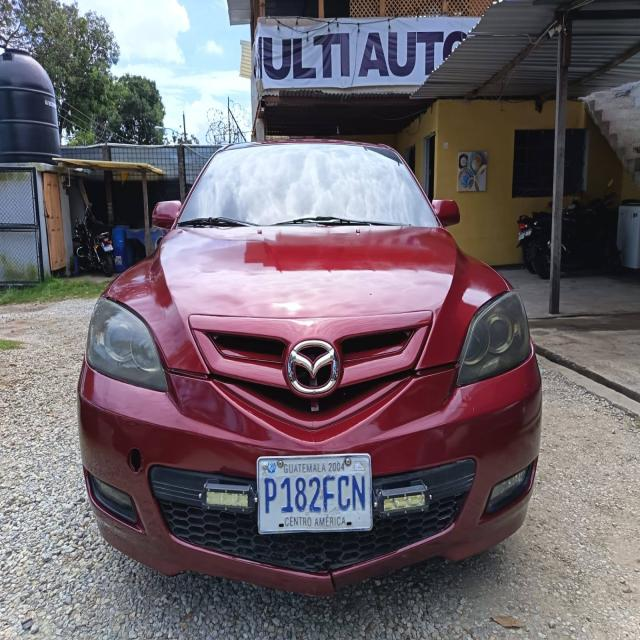Placas: (252, 450, 378, 539)
